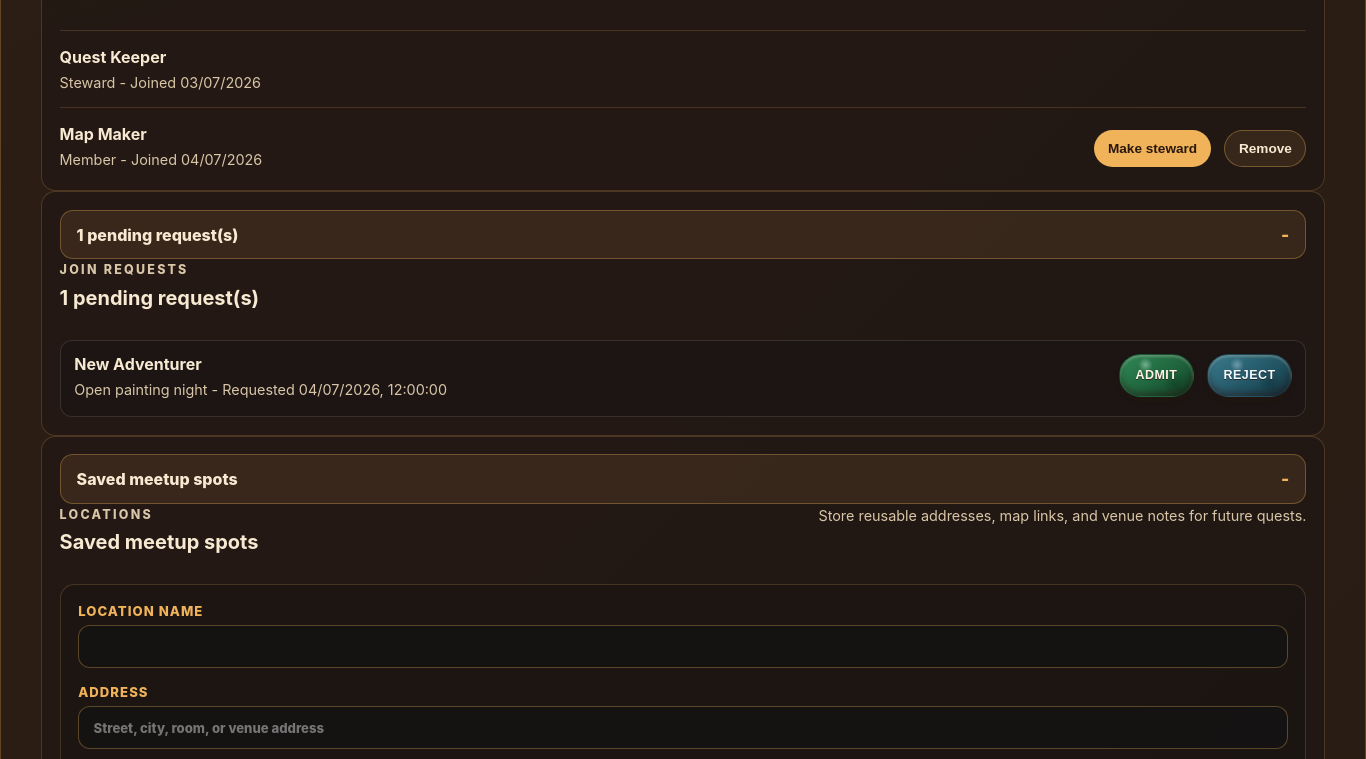
GroupsPage › shows pending public event join requests and admits them
This screenshot has width=1366, height=759.
(page scrolled)
Expected: the text "New Adventurer" is shown, [74,354,202,374]
Expected: the text "Open painting night - Requested 04/07/2026, 12:00:00" is shown, [74,378,447,403]
Click the button "Admit" at (1156, 375), box [1119,354,1194,397]
(page scrolled)
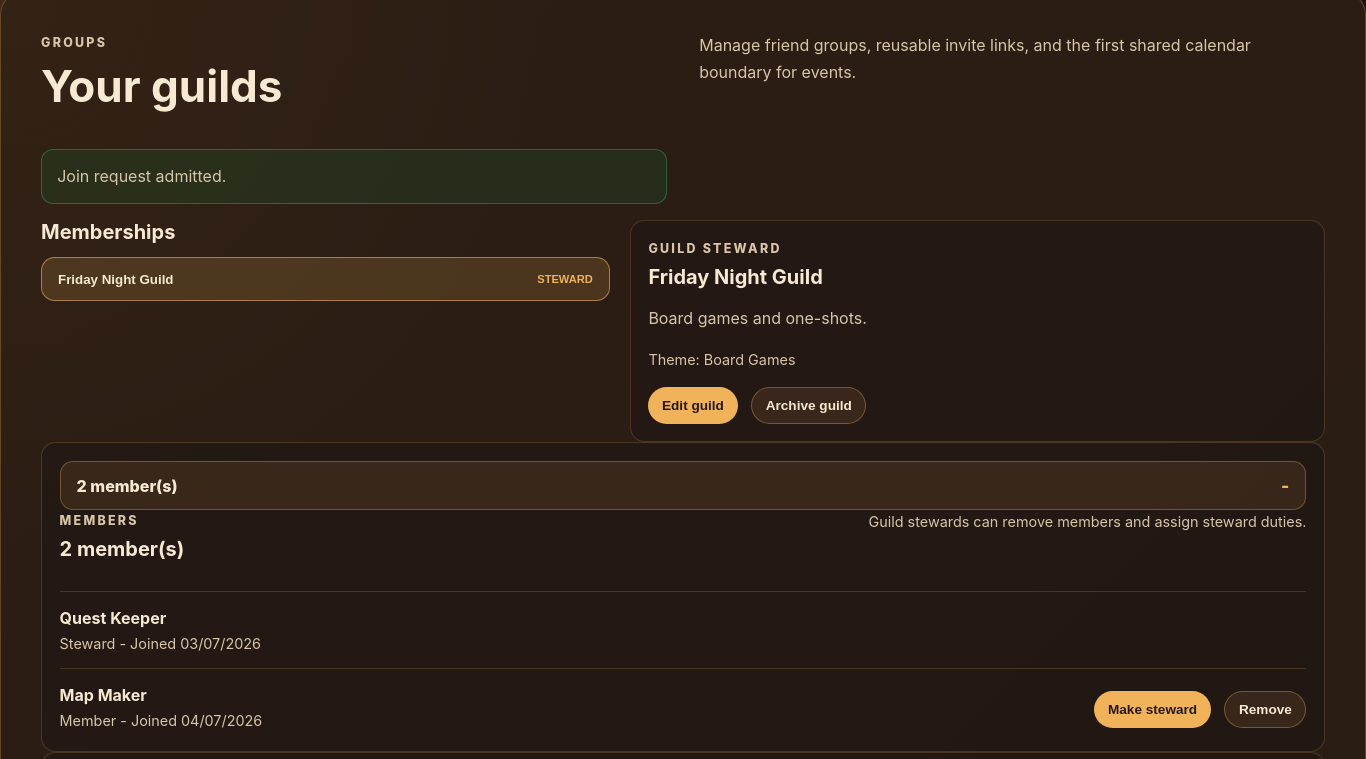
Result: the text "Join request admitted." is shown at [41,149,667,204]
Result: the text "New Adventurer" is gone
